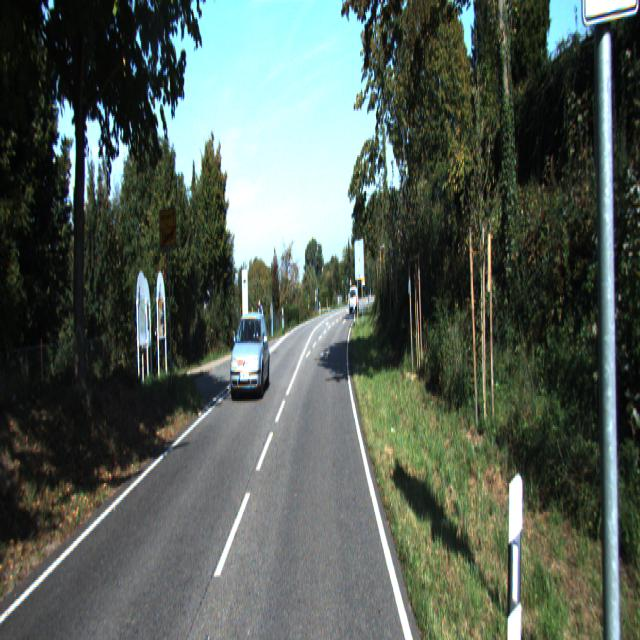Car: (229, 311, 271, 401)
